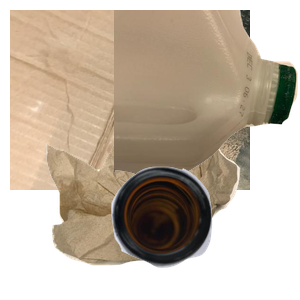cardboard: (10, 10, 250, 190)
glass: (109, 164, 300, 300)
plastic: (114, 10, 300, 179)
trash: (44, 136, 277, 300)
